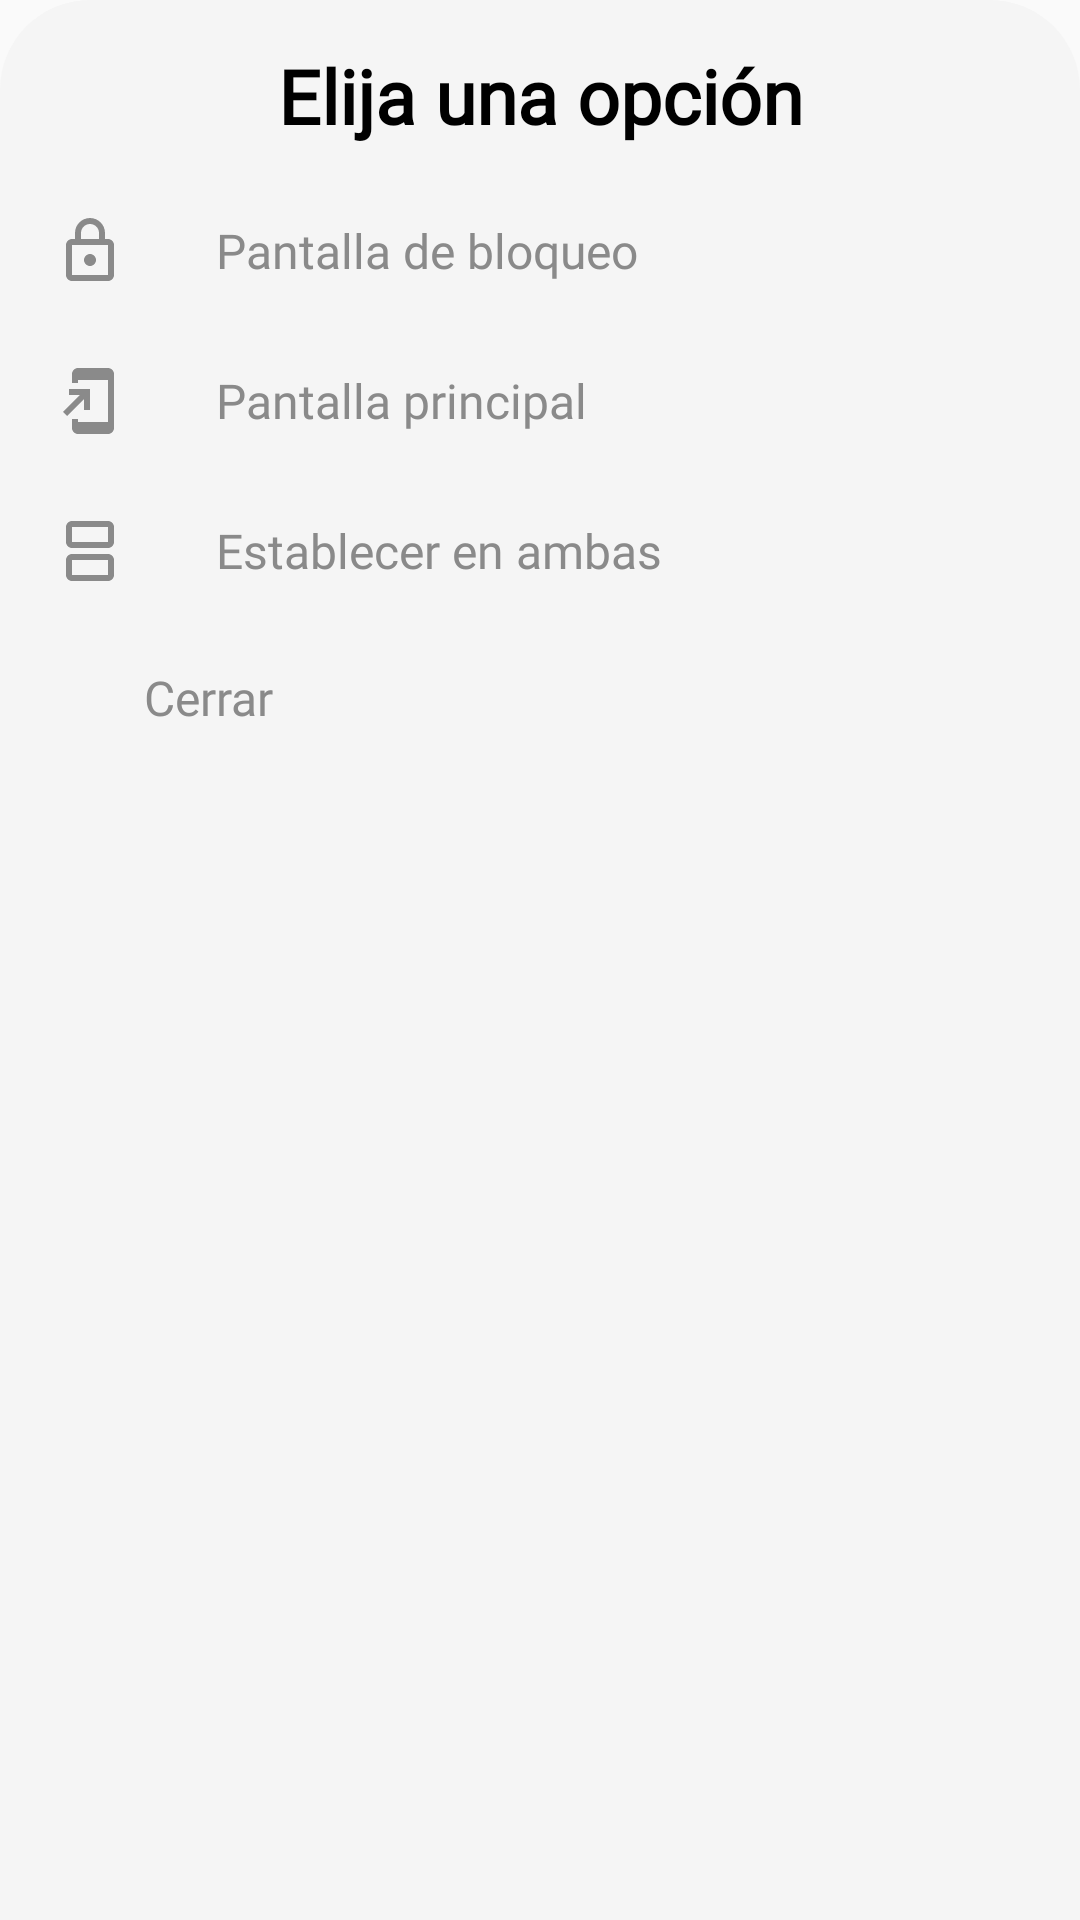

Screen size 1080 × 1920. Icon name, then its box in pixels as (left=x1, top=y1, right=x2, bottom=y2):
both screens: (left=66, top=521, right=114, bottom=581)
screen: (left=63, top=368, right=114, bottom=434)
